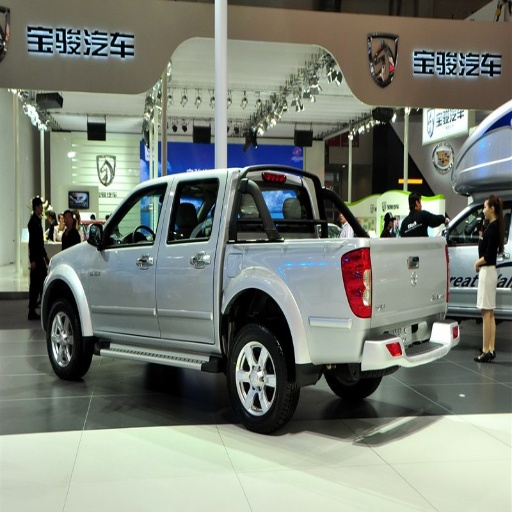back_bumper: (333, 313, 444, 372)
back_left_door: (157, 185, 212, 334)
trunk: (200, 238, 346, 361), (370, 243, 442, 323)
